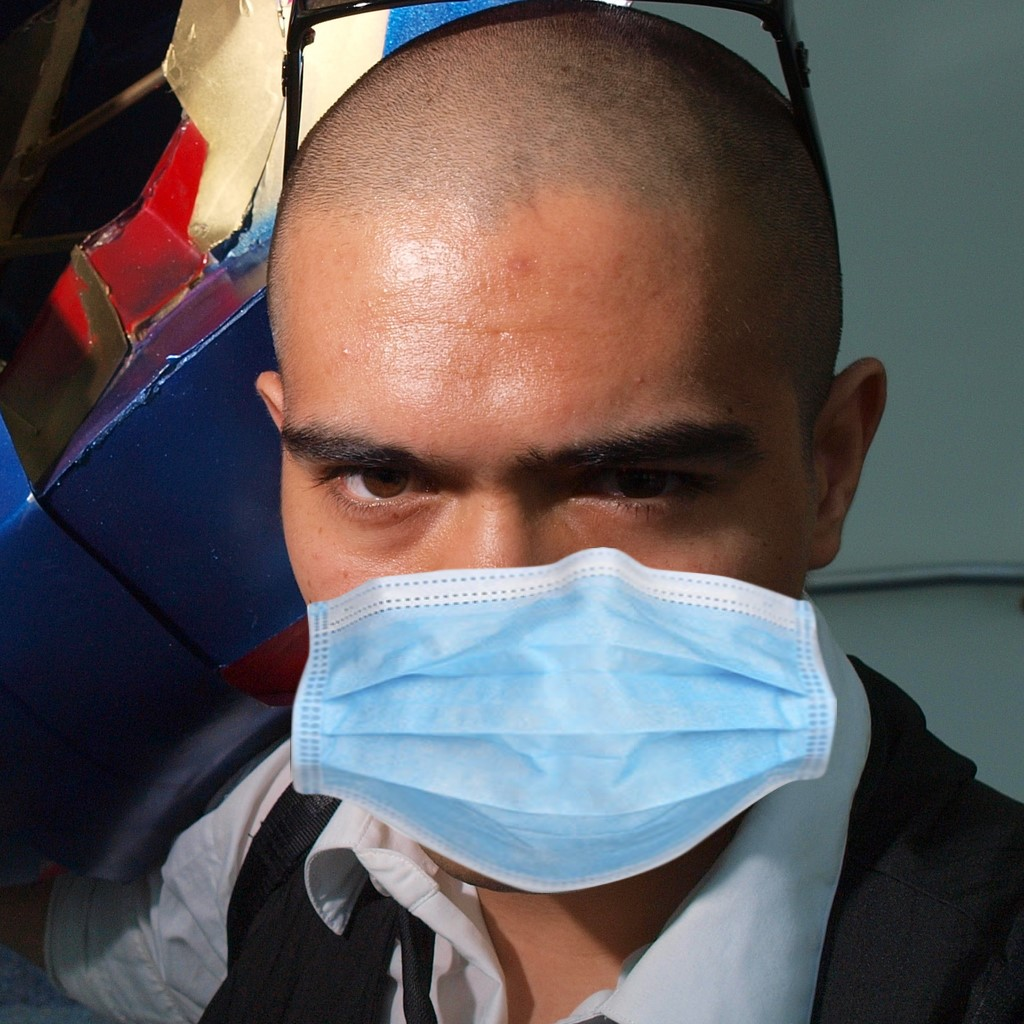con_mascara: (243, 36, 808, 882)
